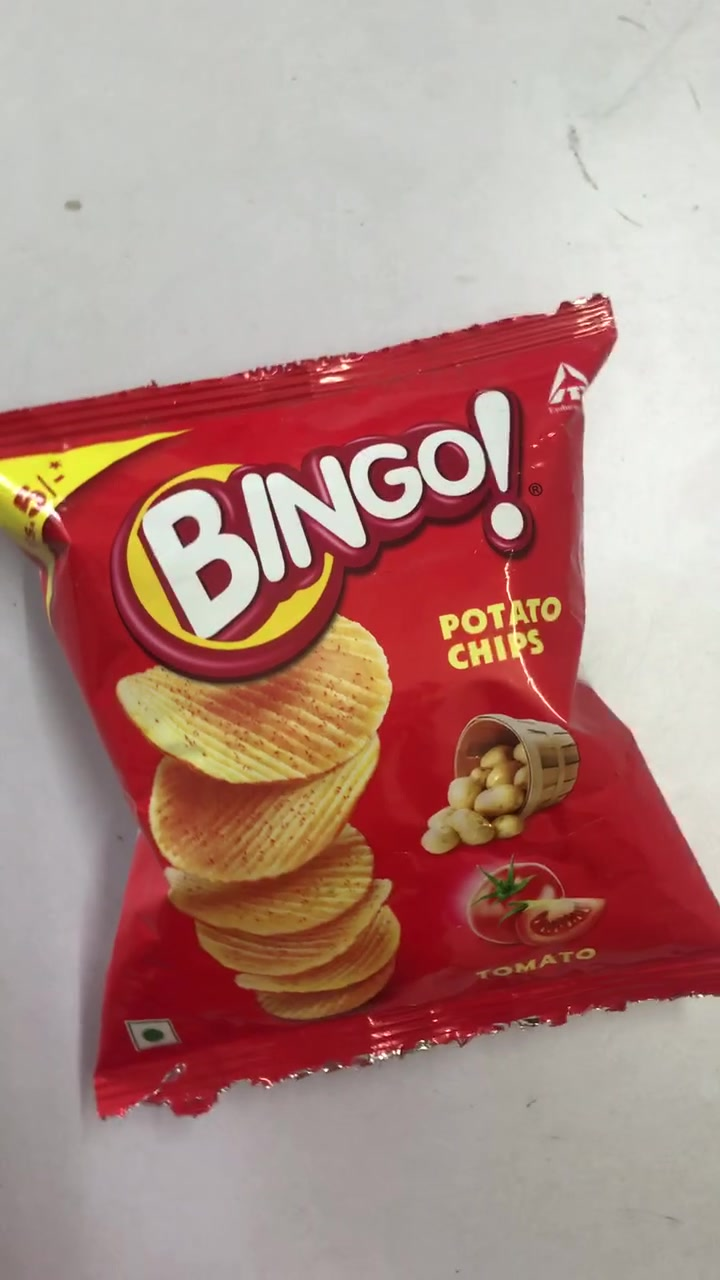Bingo: (2, 318, 720, 1111)
